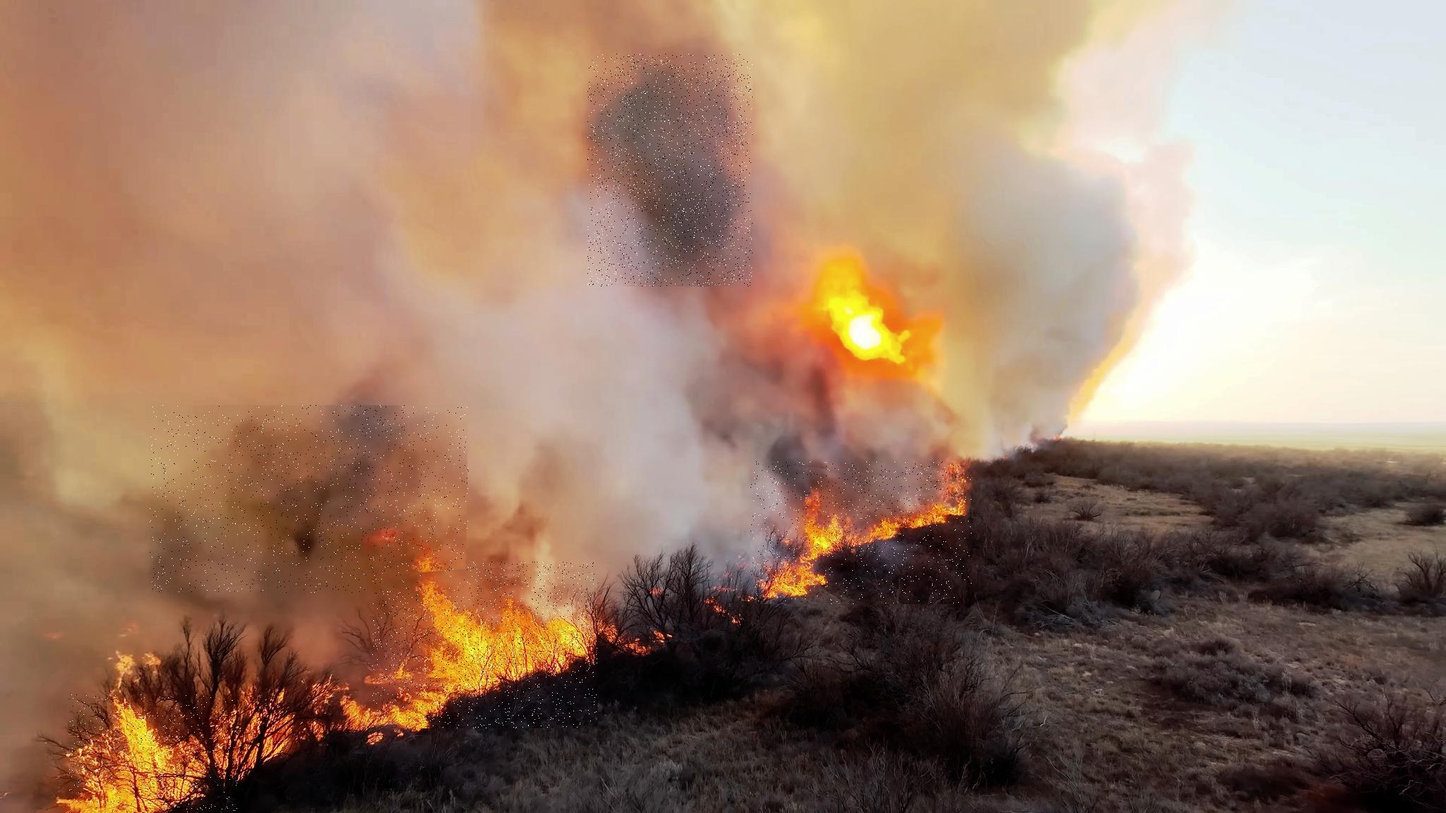fire: (371, 562, 597, 728), (750, 462, 972, 604), (69, 694, 237, 813)
smoke: (150, 405, 469, 593), (587, 54, 753, 287)
